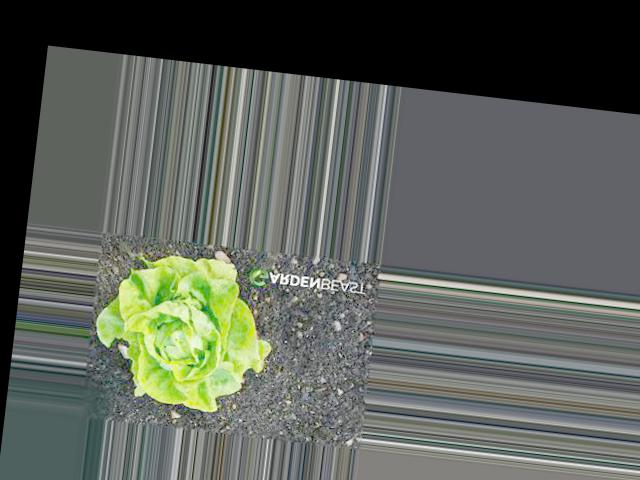lettuce: (103, 258, 272, 404)
